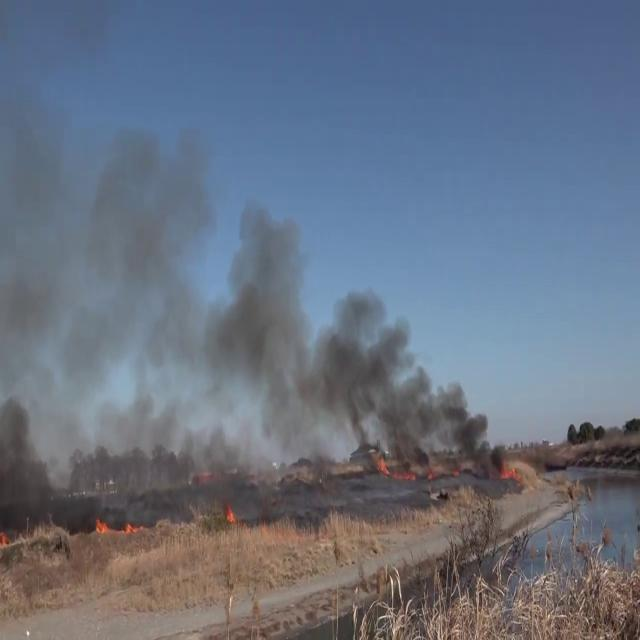Fire: (91, 514, 113, 538)
Smoke: (0, 84, 501, 486)
